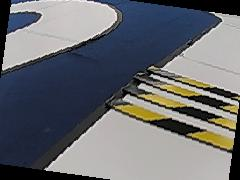bump: (108, 66, 235, 152)
